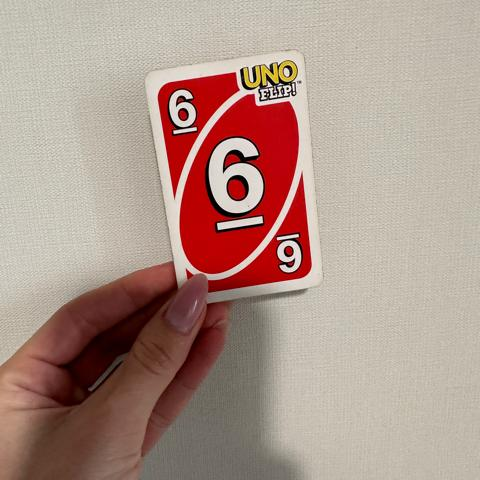2_yellow: (206, 131, 264, 234), (163, 87, 202, 135), (273, 231, 306, 276)
